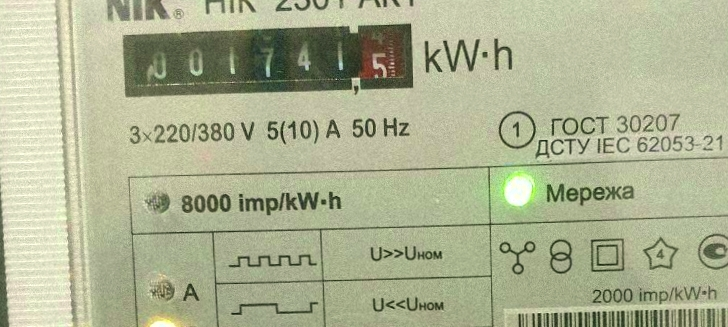0: (185, 44, 205, 78), (149, 48, 169, 81)
1: (221, 41, 239, 77), (331, 38, 347, 73)
4: (293, 38, 314, 73), (369, 28, 385, 47)
5: (368, 48, 388, 80)
7: (257, 43, 275, 79)
screen: (116, 17, 420, 104)
